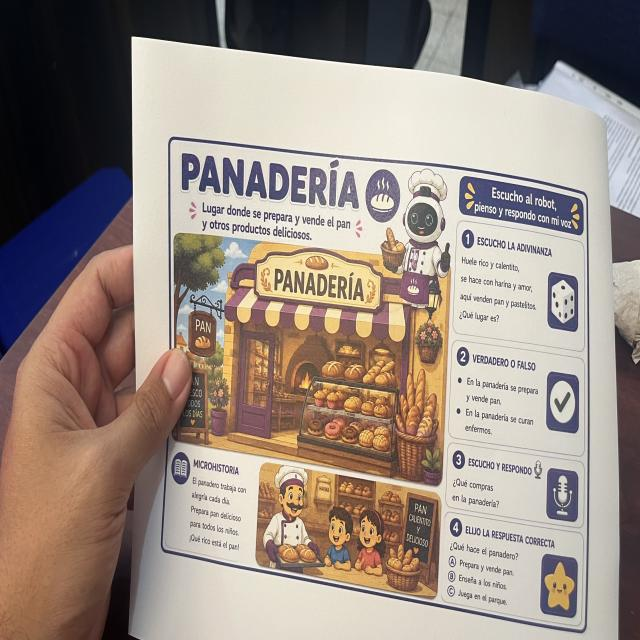panaderia: (158, 131, 593, 640)
